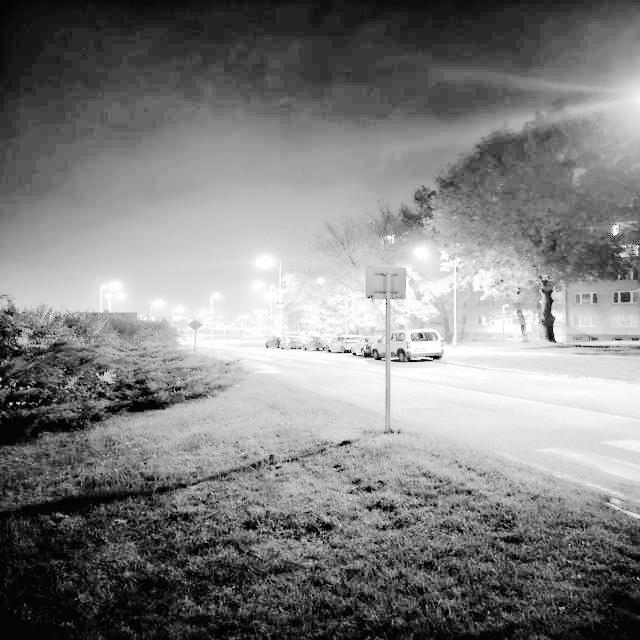Light: (414, 244, 472, 350), (254, 256, 287, 346), (316, 277, 353, 334), (97, 279, 122, 315), (208, 290, 221, 330), (147, 297, 165, 322), (171, 303, 186, 328)
